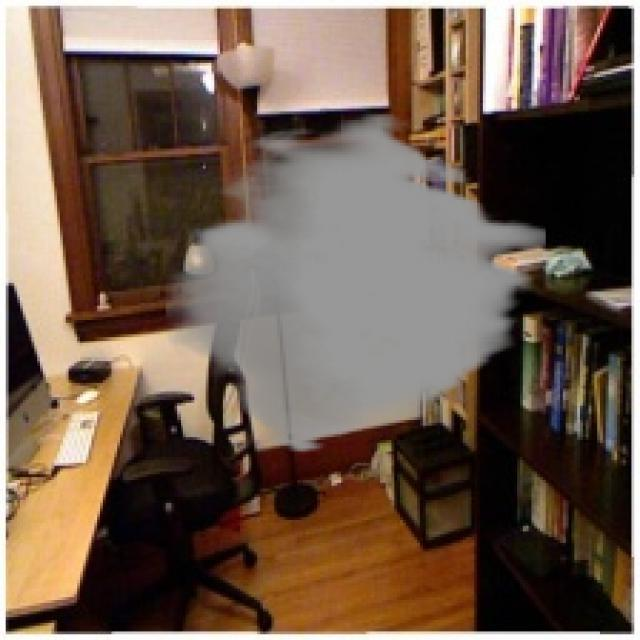Smoke: (165, 112, 546, 454)
